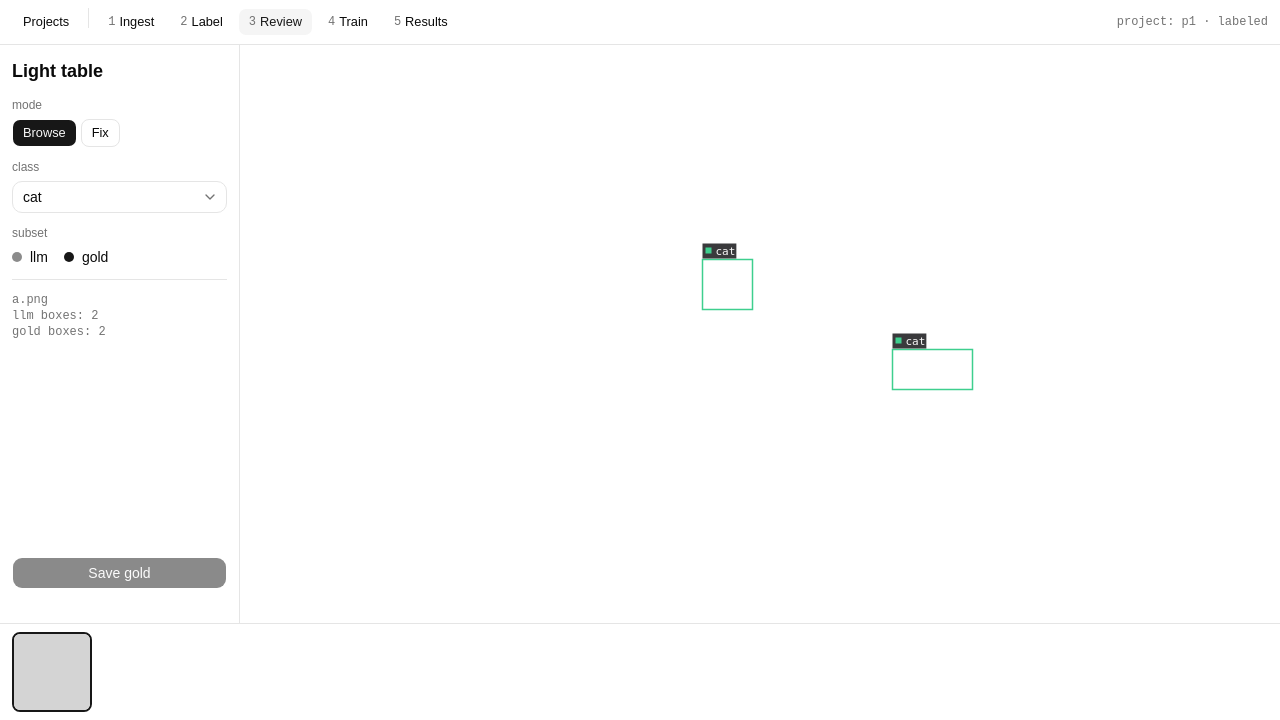
Test case: App live flow › results tab fetches metrics and corrections
expect the text with test id "rail-status" shows "project: p1": met, box [1117, 15, 1268, 29]
Click the button "5 Results".
click(421, 22)  # box [383, 8, 459, 36]
(page scrolled)
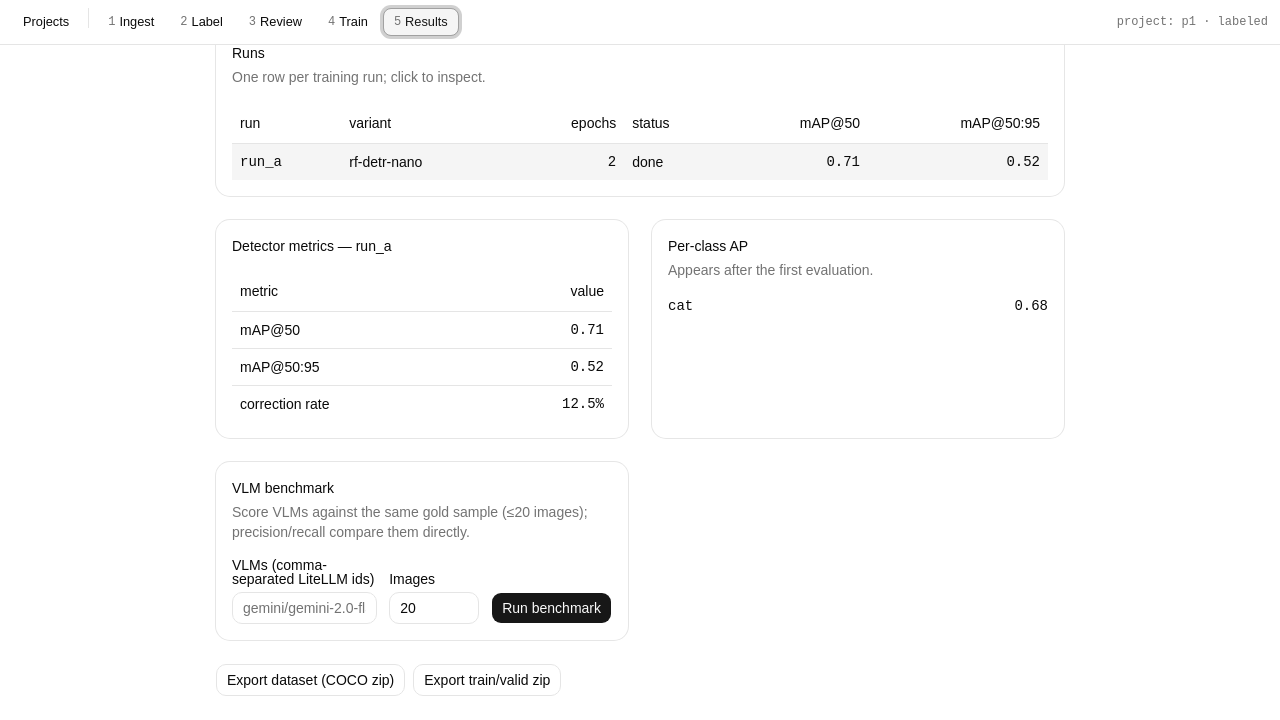
expect the cell with test id "metric-map50" reads "0.71": met, box [570, 322, 604, 338]
expect the cell with test id "metric-map5095" reads "0.52": met, box [570, 359, 604, 375]
expect the cell with test id "metric-corr" reads "12.5%": met, box [562, 396, 604, 412]
